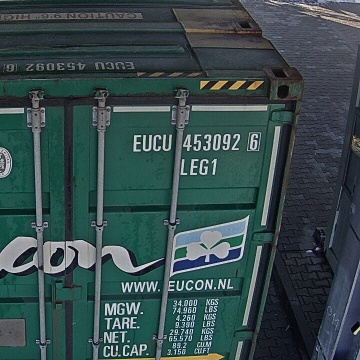serial_id: (132, 133, 258, 151)
